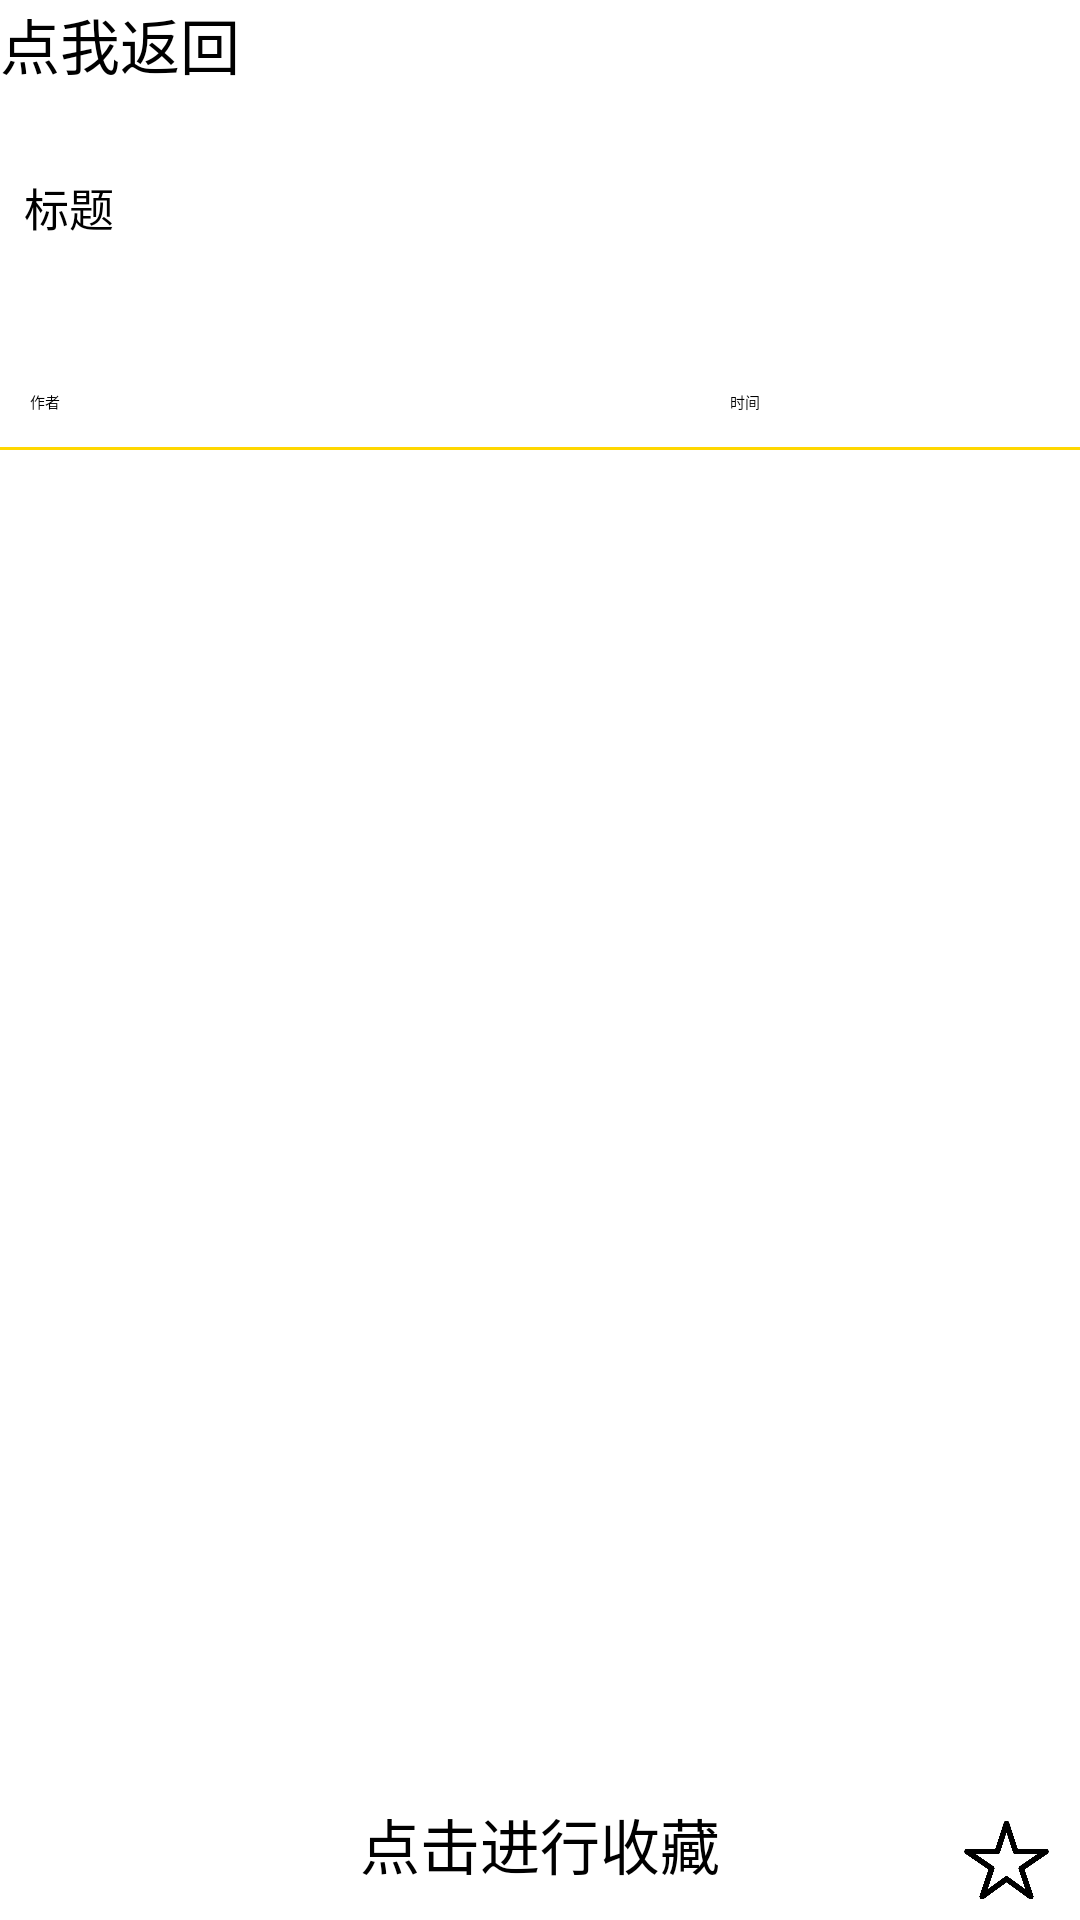

Screen size 1080px×1920px. Icon name, then its box in pixels as (x1, y1, x2, y2):
star: (964, 1821, 1049, 1899)
